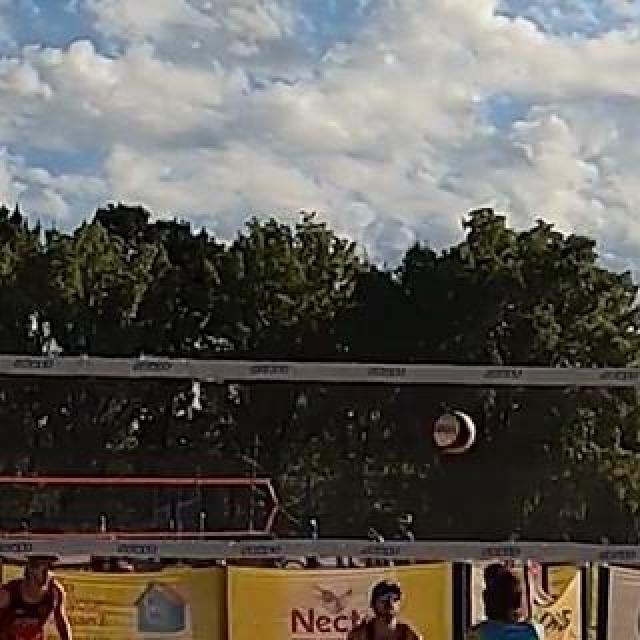volleyball: (433, 412, 475, 452)
